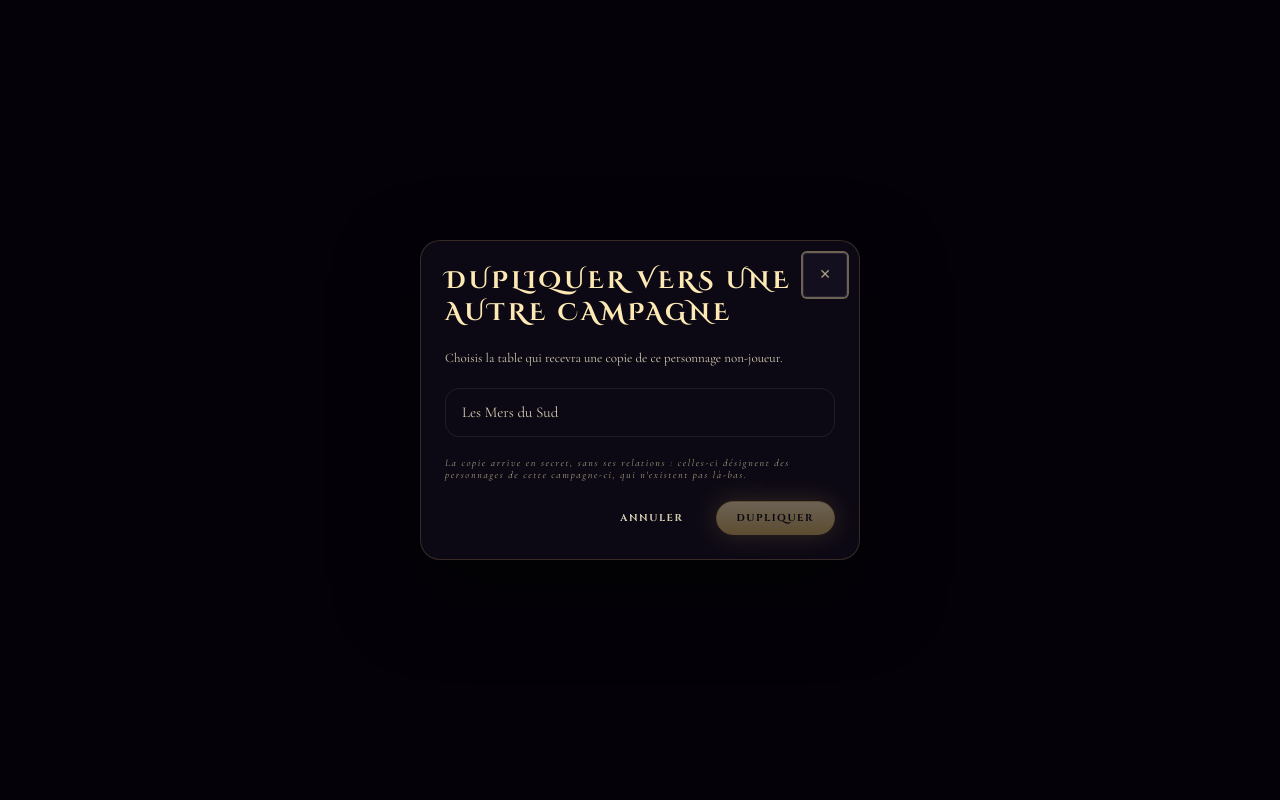
Scenario: NpcDuplicateModal › une écriture refusée reste à l’écran avec son message
This screenshot has width=1280, height=800.
Click the radio button with test id "npc-duplicate-target-c-2" at {"x": 510, "y": 412}, box [445, 388, 835, 437]
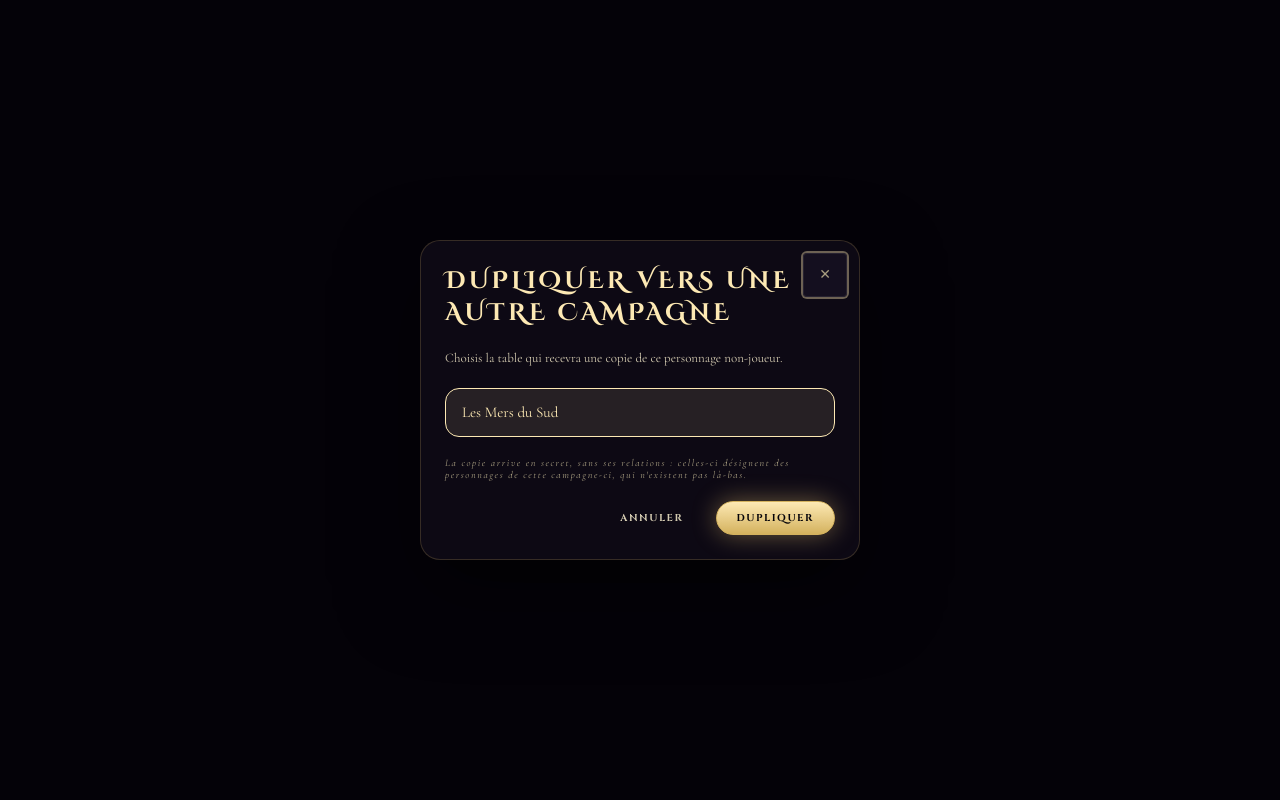
Click the button "Dupliquer" at {"x": 775, "y": 518}, box [716, 501, 835, 535]
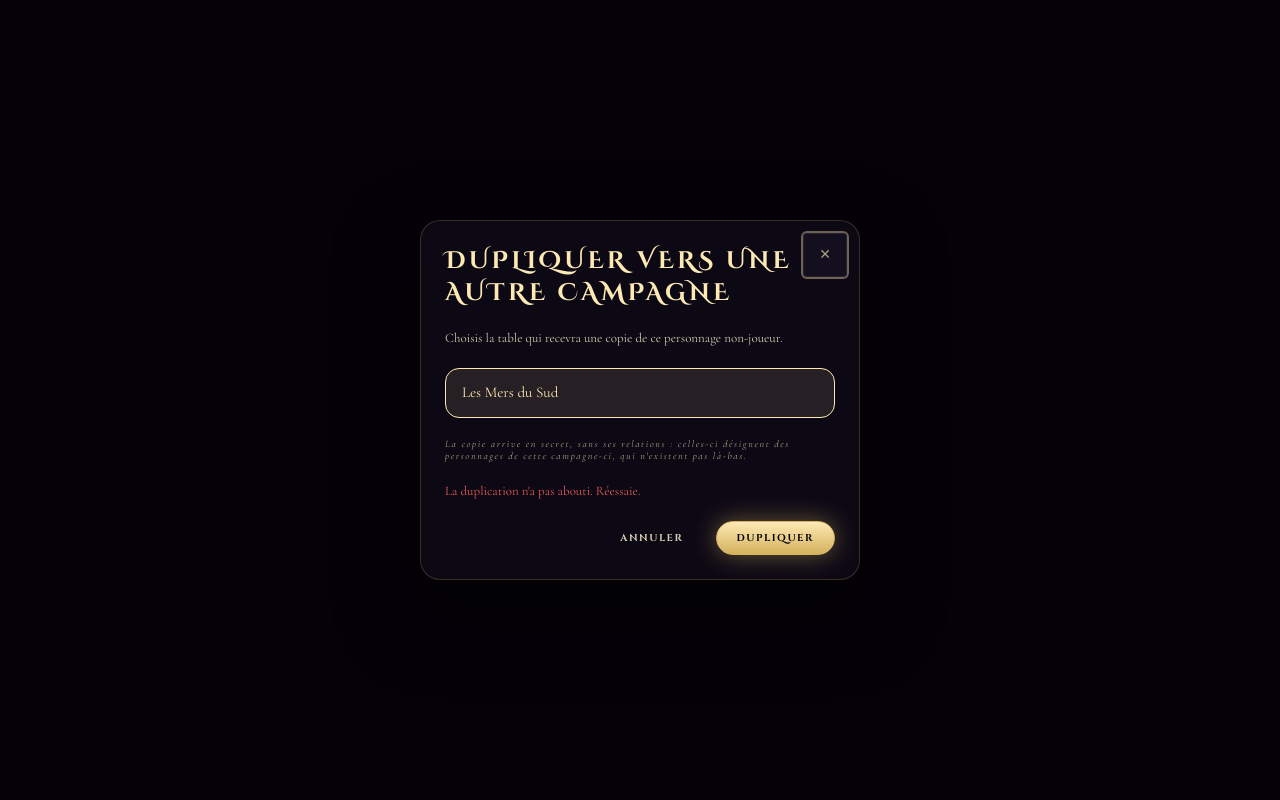
Check: the text "La duplication n'a pas abouti. Réessaie." is shown, box [445, 483, 640, 499]
